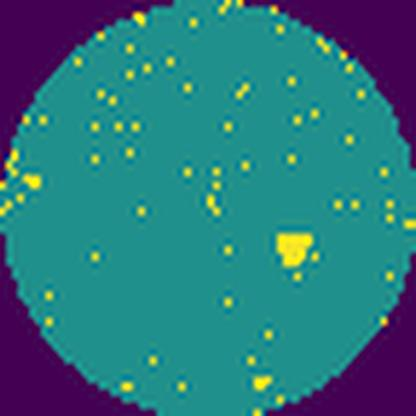Loc: (276, 230, 314, 267)
